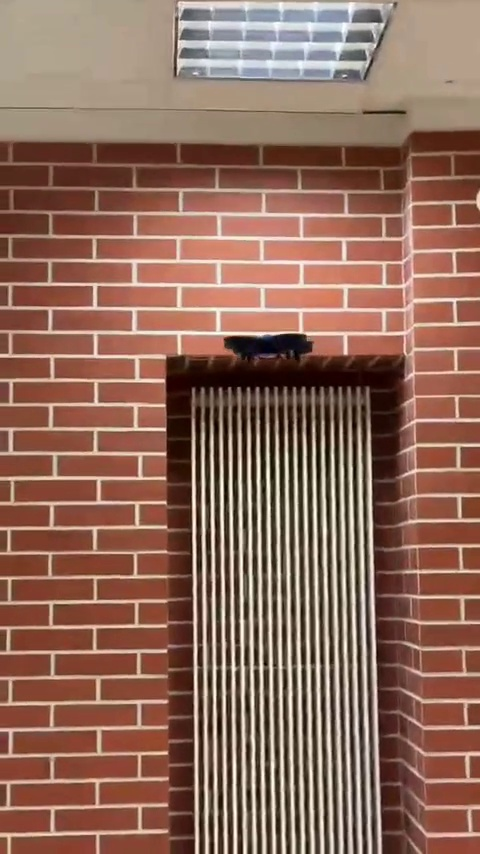drone: (222, 330, 316, 366)
